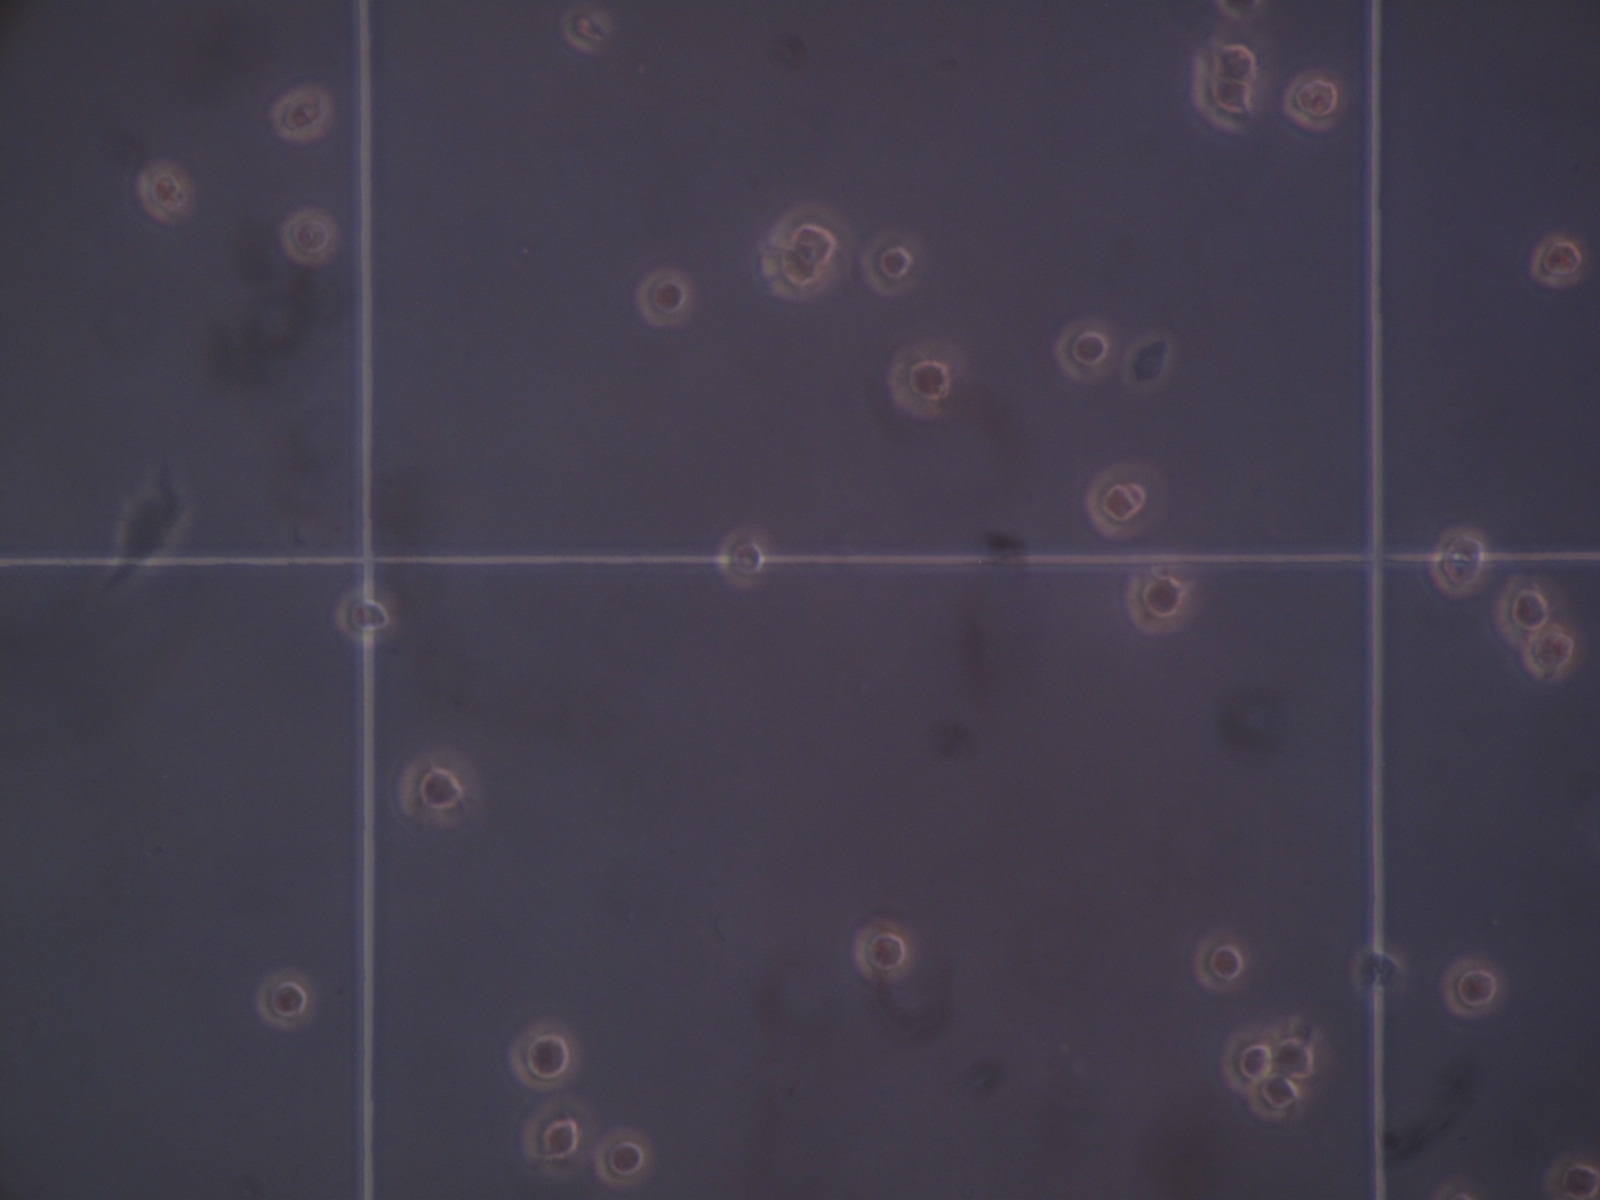hemo: (758, 200, 853, 301), (886, 340, 968, 418), (1085, 461, 1163, 539), (398, 749, 476, 826), (1192, 42, 1259, 131), (522, 1097, 593, 1174), (508, 1018, 580, 1092), (1494, 575, 1557, 649), (1125, 568, 1193, 637), (1429, 526, 1490, 597), (860, 229, 923, 297), (1054, 318, 1117, 384), (1191, 66, 1254, 131), (1441, 955, 1507, 1018), (334, 585, 399, 645), (853, 919, 915, 982), (254, 968, 317, 1030), (1283, 72, 1346, 131), (136, 160, 194, 224), (280, 207, 339, 267), (270, 86, 333, 142), (595, 1128, 654, 1187), (635, 268, 693, 328), (716, 527, 771, 589), (1221, 1029, 1272, 1093), (1192, 934, 1246, 992), (1523, 628, 1582, 679), (1529, 234, 1585, 287), (1267, 1026, 1319, 1083), (1352, 944, 1405, 996), (1545, 1153, 1600, 1200), (1249, 1074, 1303, 1121), (561, 8, 611, 53), (1207, 42, 1260, 84)
